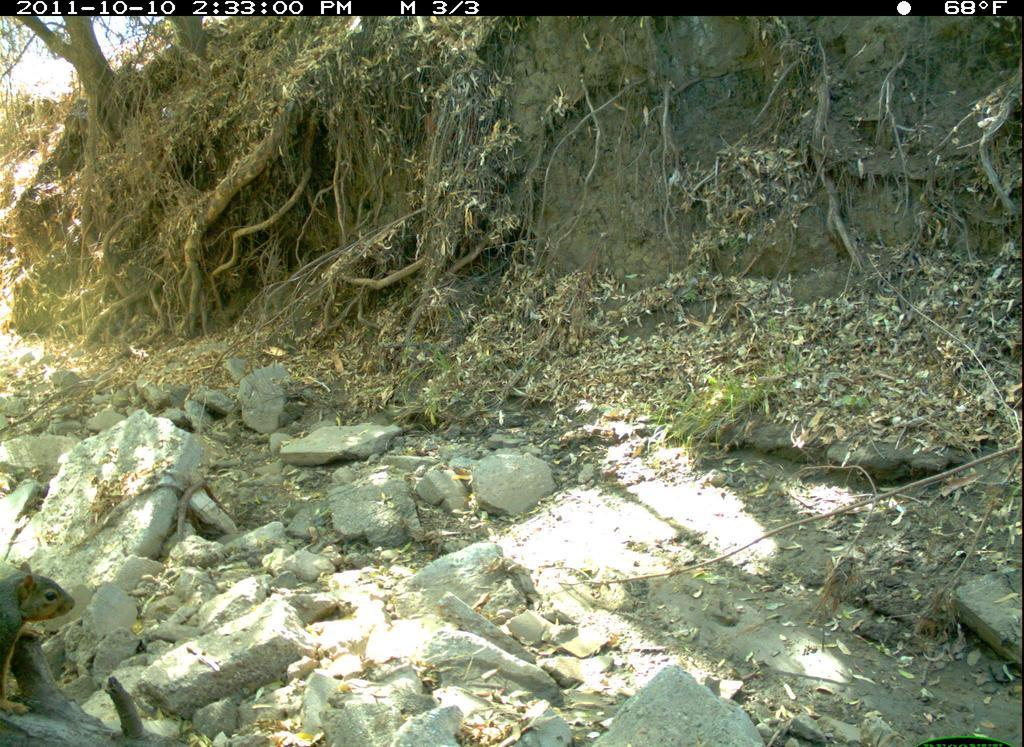squirrel: (3, 552, 90, 721)
